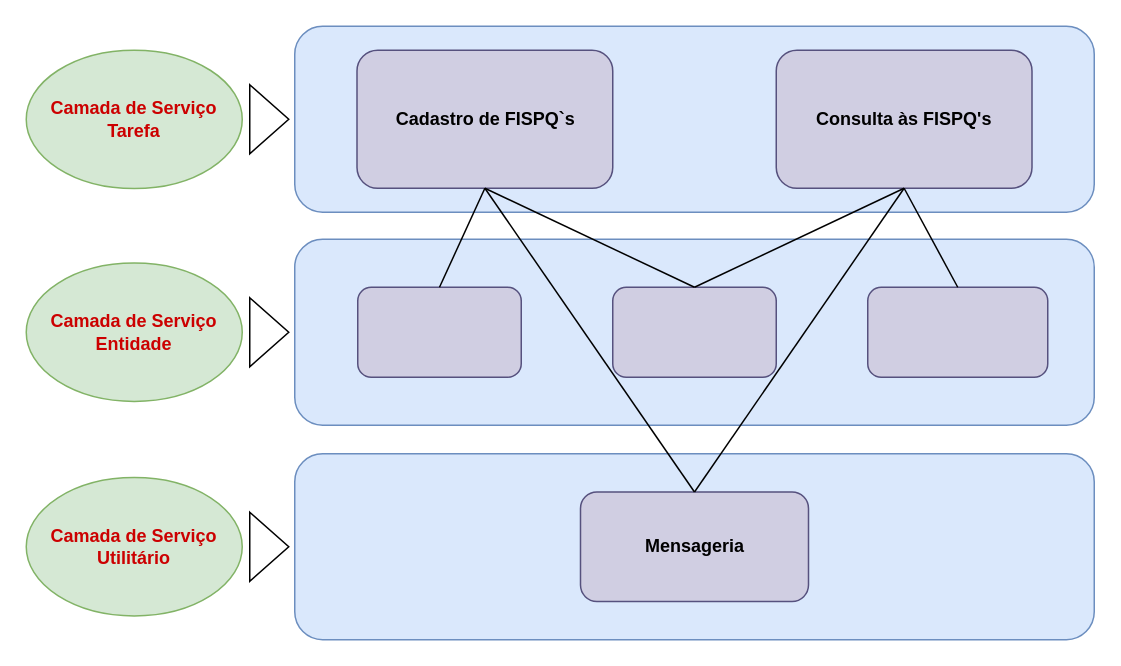
Image size: 1121x666. Some labels were removed from this diagram. The box of each missing label's shape, as (x1, y1, x2, y2) in pixels:
FISPQ: (611, 286, 776, 377)
Funcionário: (866, 286, 1048, 377)
Gestor: (356, 286, 521, 377)
